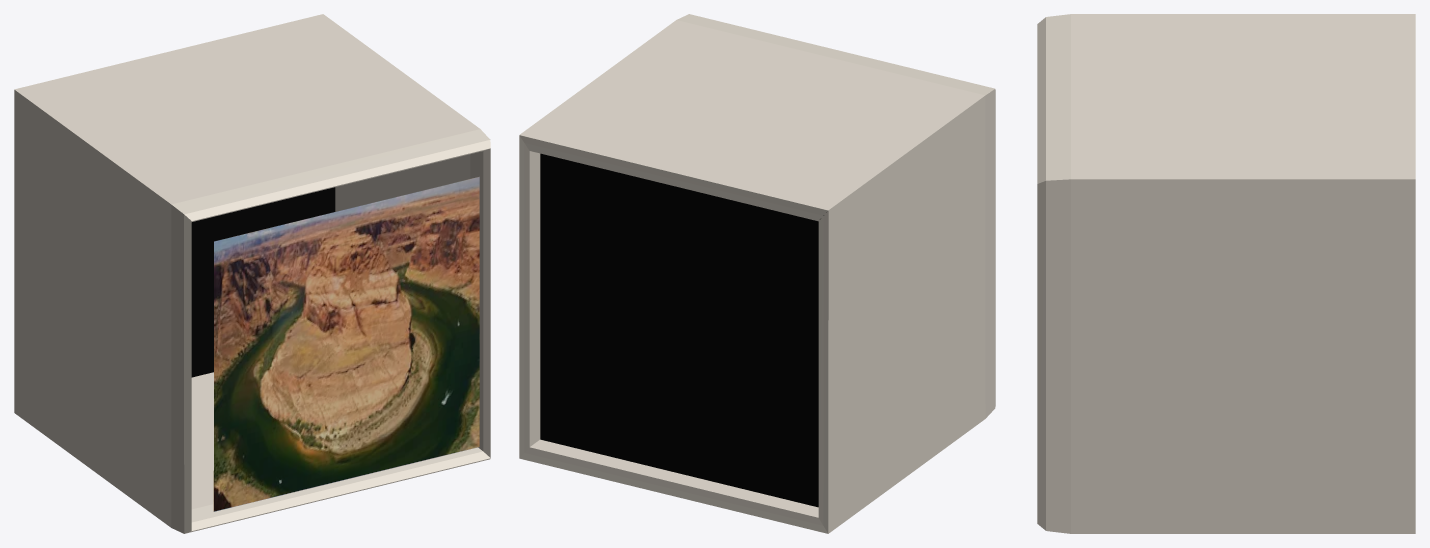
Rendered from sh-contrib-horse-shoe-bend-frame.glb.
The picture shows the model from 3 angles, left to right: view 1: azimuth 30°, elevation 25°; view 2: azimuth 150°, elevation 25°; view 3: azimuth 270°, elevation 25°; orthographic projection. The views are drawn at different scales.
Visible parts, largest first — view 1: MetalFrame_Cylinder_Aluminium.005, Photo_Cube_Material_HorseShoeBend, Frame_Black_Material.006; view 2: MetalFrame_Cylinder_Aluminium.005, Frame_Black_Material.006; view 3: MetalFrame_Cylinder_Aluminium.005.
Boxes of the visible parts, x1=… form: MetalFrame_Cylinder_Aluminium.005: x1=14, y1=14, x2=490, y2=533; Photo_Cube_Material_HorseShoeBend: x1=213, y1=176, x2=479, y2=511; Frame_Black_Material.006: x1=191, y1=187, x2=335, y2=377; MetalFrame_Cylinder_Aluminium.005: x1=519, y1=14, x2=995, y2=533; Frame_Black_Material.006: x1=540, y1=153, x2=826, y2=507; MetalFrame_Cylinder_Aluminium.005: x1=1037, y1=14, x2=1415, y2=533.
Bounding box in the file's own units: 1 × 1 × 1.
Materials: 3 (1 with a texture image).
